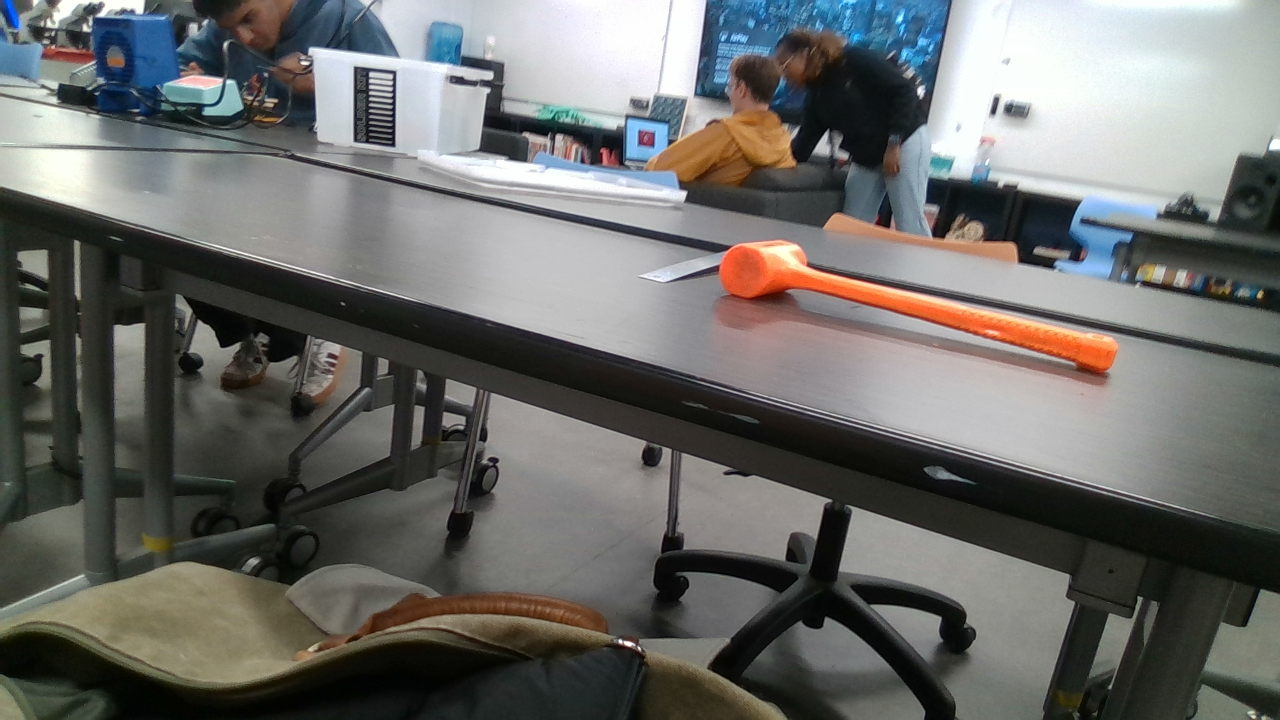Orange Hammer: (715, 239, 1119, 371)
